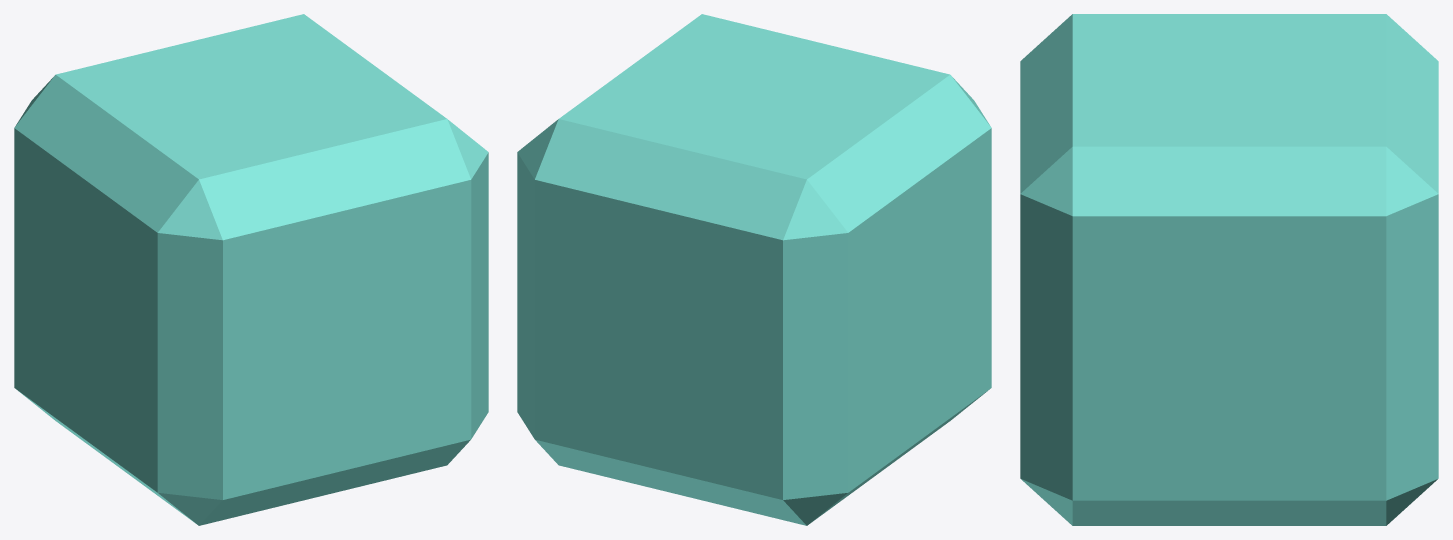
File: Light Blue.fbx
3 renders of one model, left to right at view 1: azimuth 30°, elevation 25°; view 2: azimuth 150°, elevation 25°; view 3: azimuth 270°, elevation 25°, orthographic. The views are drawn at different scales.
Visible parts, largest first — view 1: Light Blue; view 2: Light Blue; view 3: Light Blue.
Part boxes in pixels (<box>): Light Blue: <box>14,14,488,525</box>; Light Blue: <box>517,14,991,525</box>; Light Blue: <box>1020,14,1438,525</box>.
Bounding box in the file's own units: 200 × 200 × 200.
